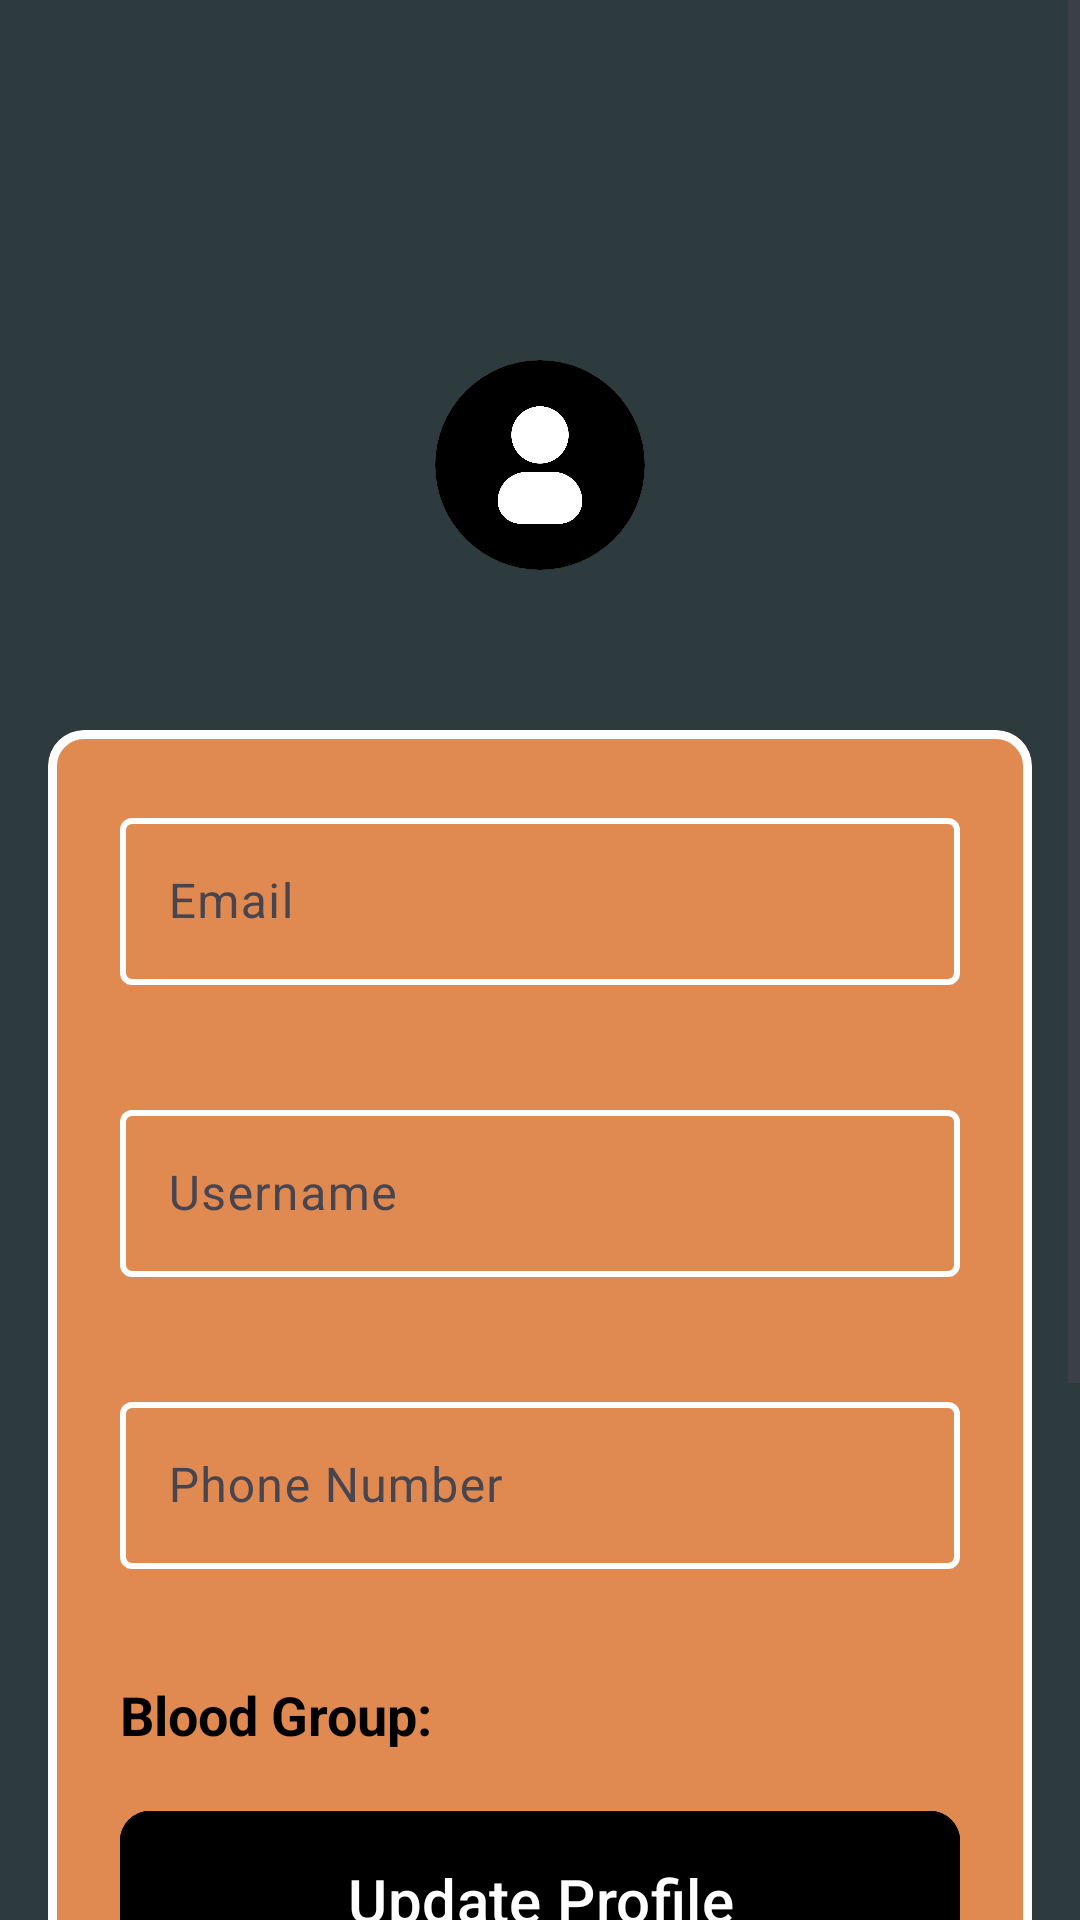

Named icons in this screenshot (1080px×1920px) and their centers, (x,y):
user: (540,465)
